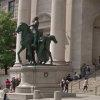Statue: (5, 12, 56, 70)
